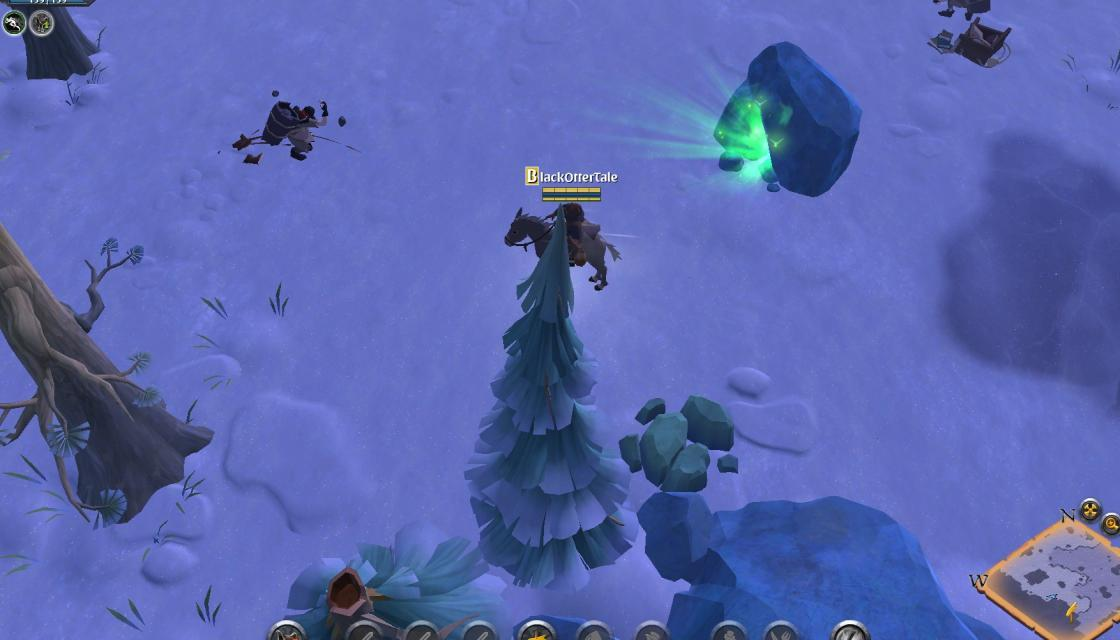sandstone: (618, 388, 742, 498)
